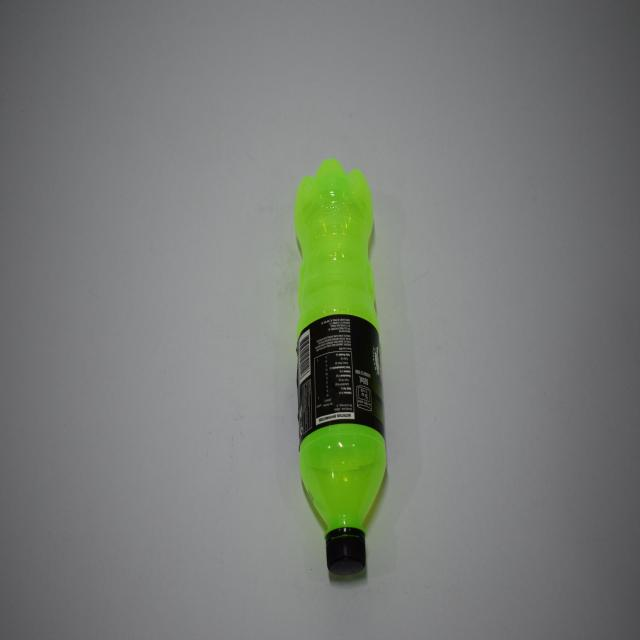bottle: (292, 155, 388, 584)
